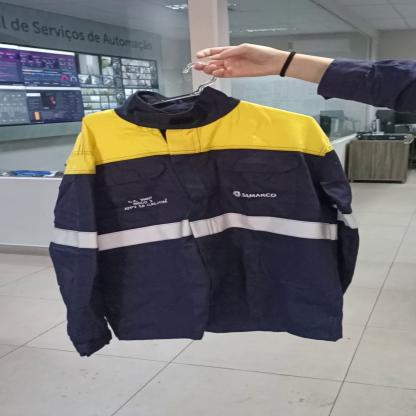C_eletrica: (47, 89, 368, 355)
